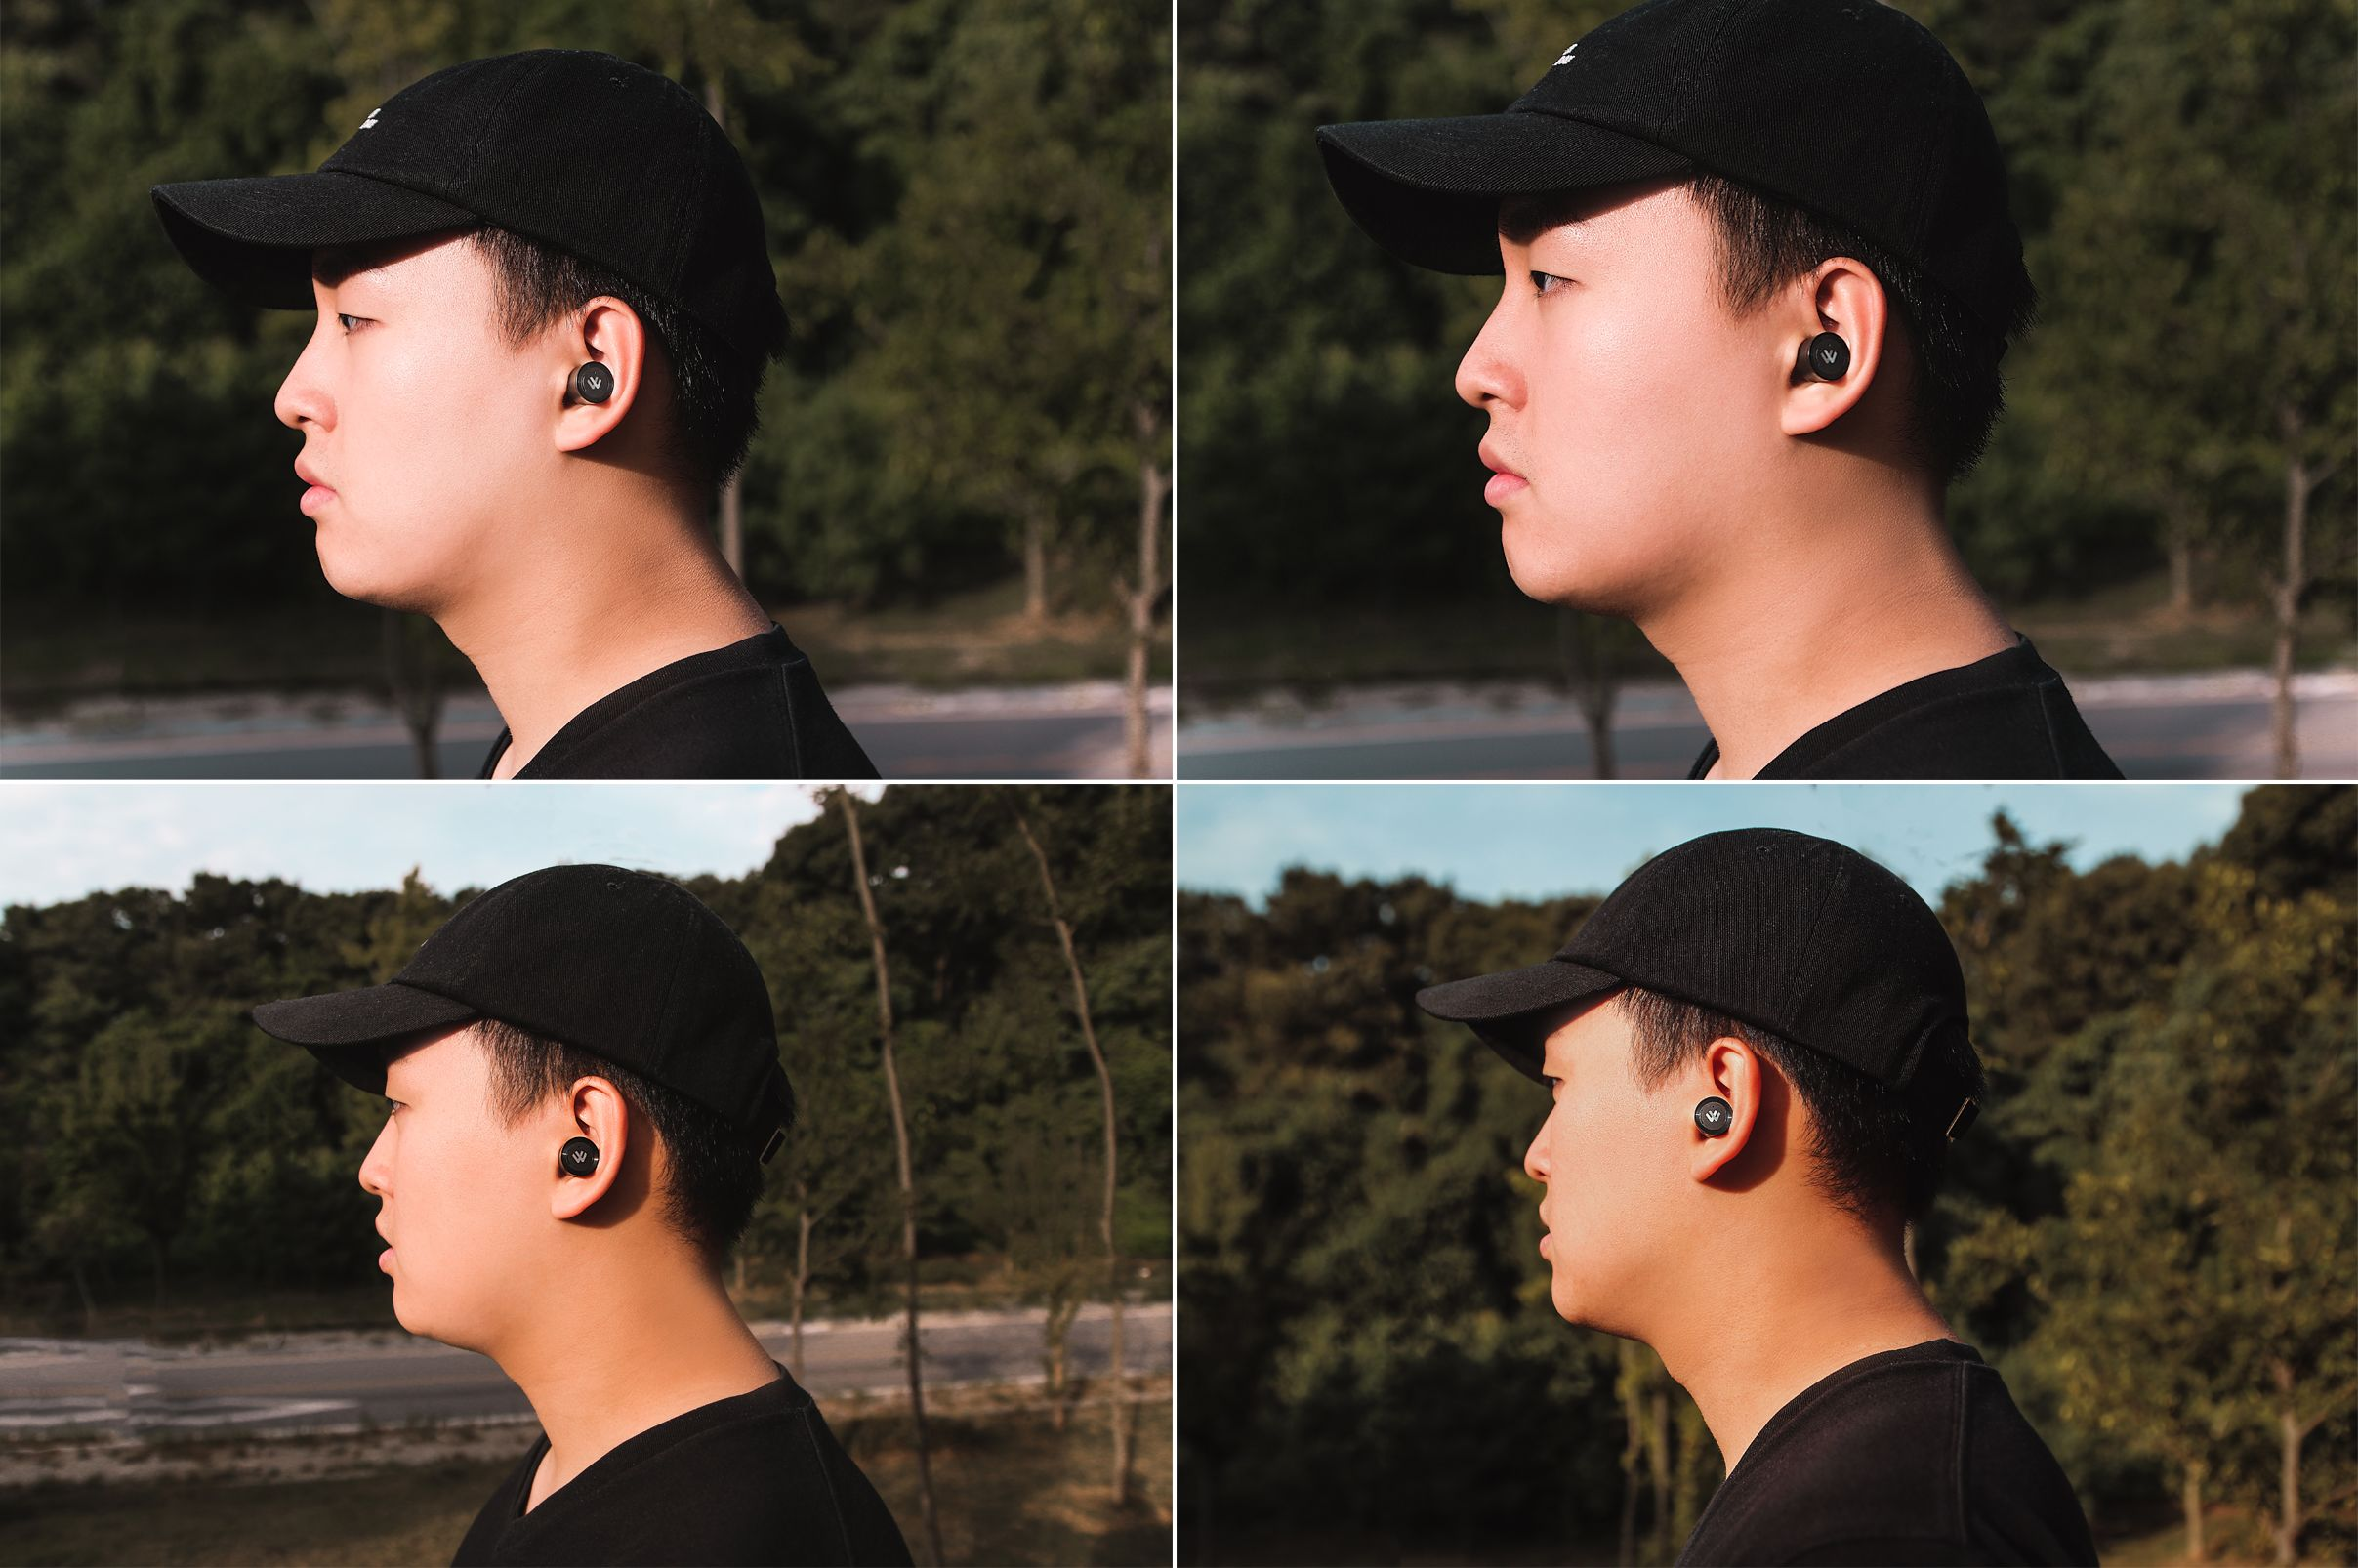earphone: (1781, 257, 1884, 436), (555, 296, 642, 458), (1688, 1036, 1760, 1185), (551, 1076, 628, 1213)
